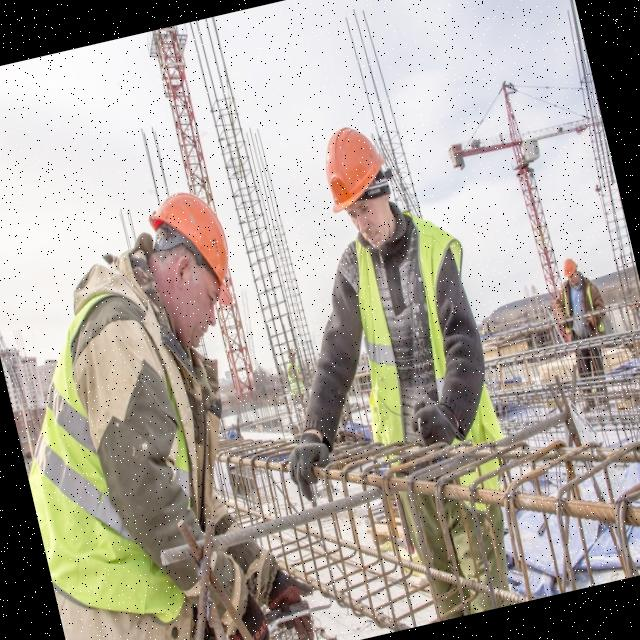Helmet: (143, 180, 242, 321), (316, 121, 396, 216), (561, 257, 582, 283)
Jacket: (10, 319, 211, 619), (334, 215, 488, 443), (555, 279, 606, 338)
